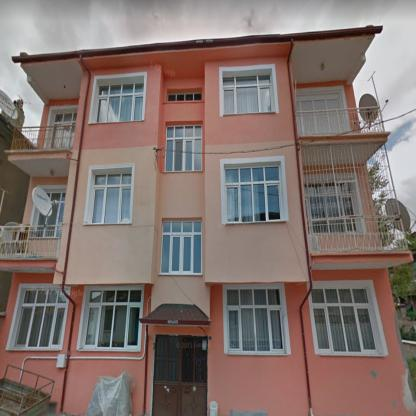door: (154, 336, 208, 415)
window: (312, 288, 377, 351), (226, 287, 284, 351), (83, 289, 142, 348), (225, 165, 281, 221), (304, 179, 358, 235), (14, 290, 67, 346), (161, 220, 202, 272), (90, 172, 131, 222), (295, 94, 345, 134), (223, 74, 272, 113), (96, 83, 144, 121), (165, 124, 202, 172), (34, 190, 66, 236), (50, 112, 77, 148), (167, 93, 203, 100)
